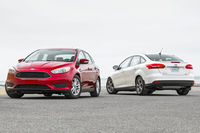car: (6, 47, 102, 99), (106, 53, 195, 94)
